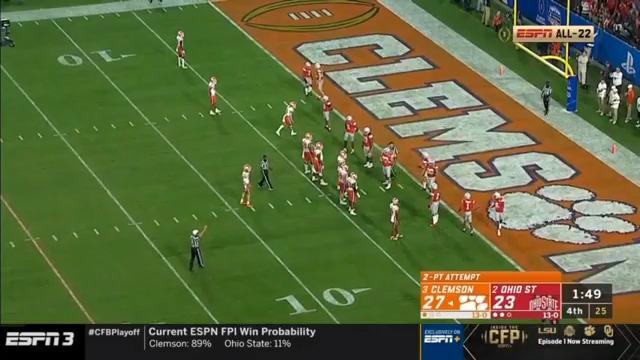defense: (486, 192, 509, 237), (457, 191, 478, 238), (359, 125, 376, 170), (297, 61, 317, 99), (319, 92, 337, 133), (342, 114, 360, 154), (427, 183, 441, 227), (379, 147, 393, 190), (418, 151, 431, 189), (425, 160, 438, 197), (314, 62, 326, 96)
oline: (311, 140, 328, 187), (345, 171, 361, 217), (302, 132, 317, 176), (335, 149, 348, 190), (338, 165, 349, 207)
qb: (239, 163, 253, 208)
ref: (189, 225, 207, 273), (537, 80, 554, 120), (258, 154, 274, 192), (387, 139, 400, 165)
skill: (275, 100, 298, 138), (206, 75, 222, 119), (386, 198, 402, 242), (176, 28, 191, 70)
